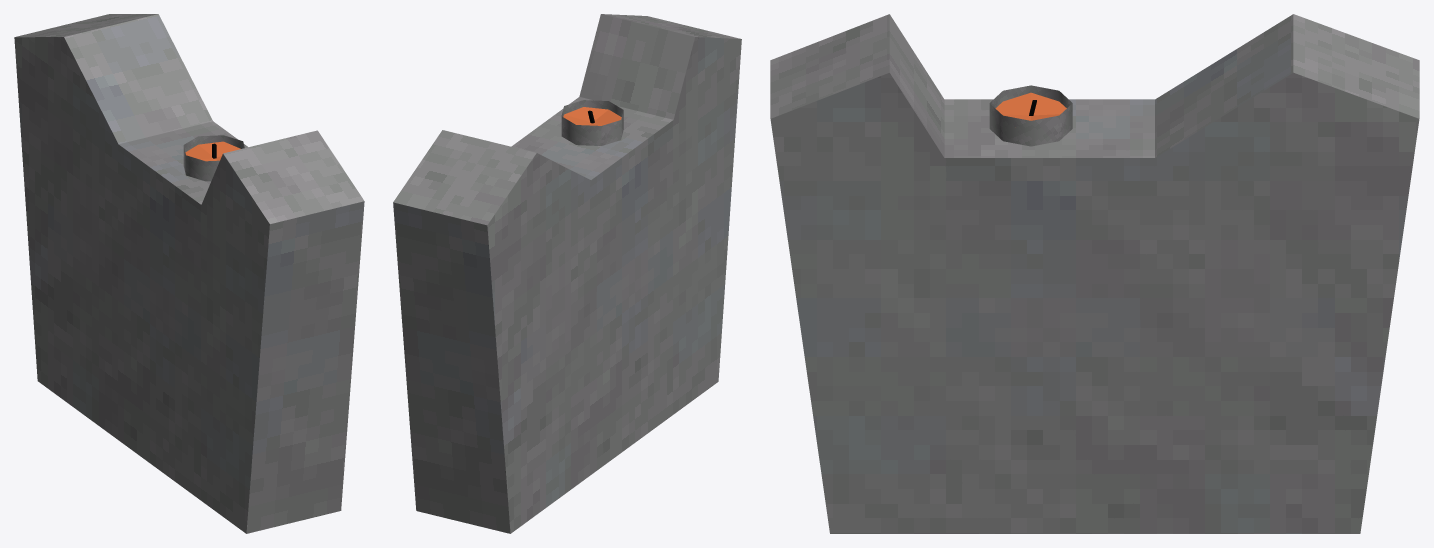
File: GravSten6.glb
3 renders of one model, left to right at view 1: azimuth 30°, elevation 25°; view 2: azimuth 150°, elevation 25°; view 3: azimuth 270°, elevation 25°, orthographic. The views are drawn at different scales.
Visible parts, largest first — view 1: GravSten_001; view 2: GravSten_001; view 3: GravSten_001.
Part boxes in pixels (<box>): GravSten_001: <box>14,14,364,533</box>; GravSten_001: <box>393,14,741,533</box>; GravSten_001: <box>770,14,1419,533</box>.
Bounding box in the file's own units: 0.4952 × 1.82 × 2.32.
Materials: 3 (1 with a texture image).
